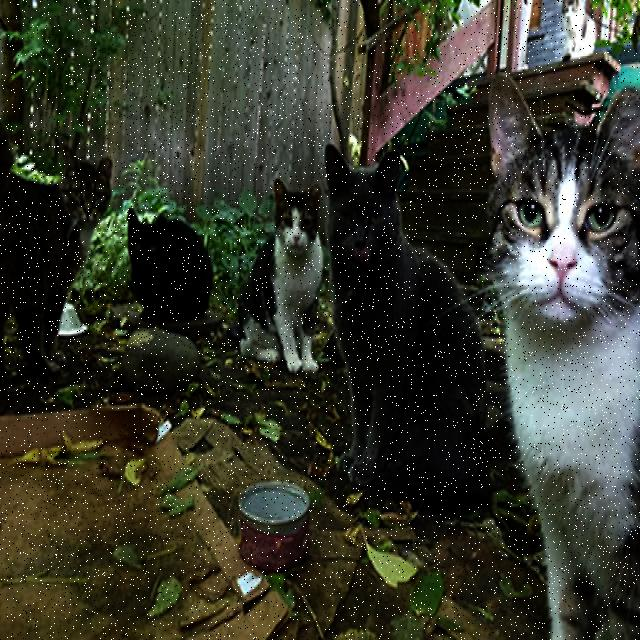cat: (489, 75, 640, 638), (328, 146, 489, 509), (0, 126, 111, 378), (240, 180, 321, 371), (131, 212, 209, 320)
